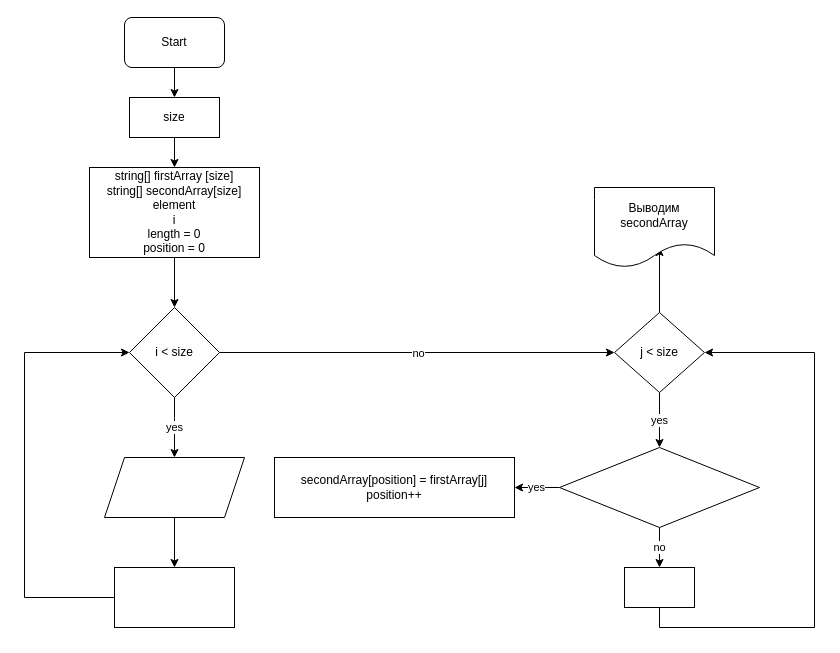
The diagram is 840 pixels wide and 653 high, and some of its shapes have lost their labels. Here are the shapes that lost their labels. From the top down, the centre of each, then its label:
At [174,487]: "element (сздаем его)".
At [659,487]: "firstArray[j].Length <= length".
At [174,597]: "firstArray[i] = element i++".
At [659,587]: "j++".
